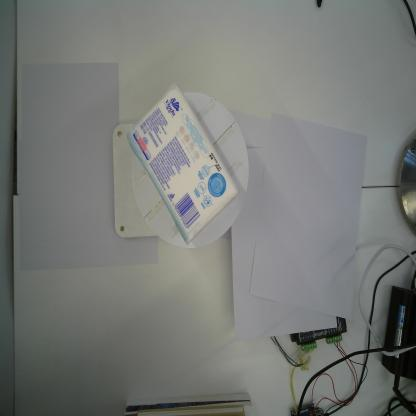Tissue: (127, 83, 240, 248)
